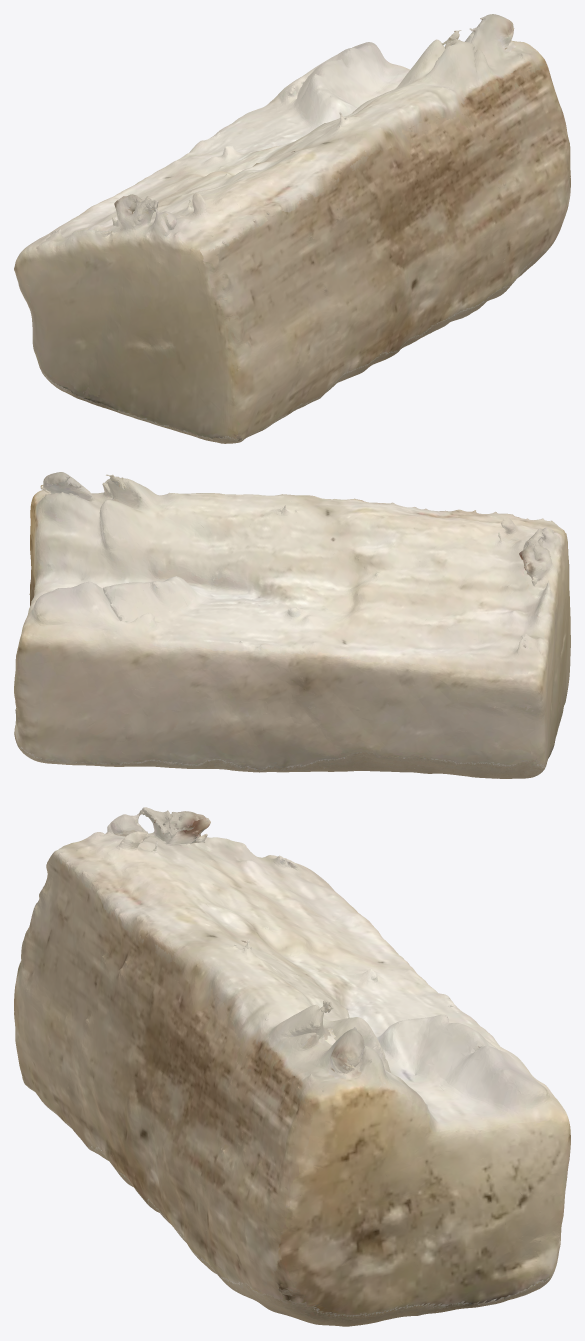
Rendered from selenite.glb.
3 renders of one model, top to bottom at view 1: azimuth 30°, elevation 25°; view 2: azimuth 150°, elevation 25°; view 3: azimuth 270°, elevation 25°, orthographic. The views are drawn at different scales.
Parts seen in each view (by area): view 1: Object_2; view 2: Object_2; view 3: Object_2.
Boxes of the visible parts, x1,y1,x2,y2 form: Object_2: (14,14,570,443); Object_2: (14,472,570,778); Object_2: (14,807,570,1326).
Size of the model in its own units: 133 by 56.2 by 97.73.
Materials: 1 (1 with a texture image).
